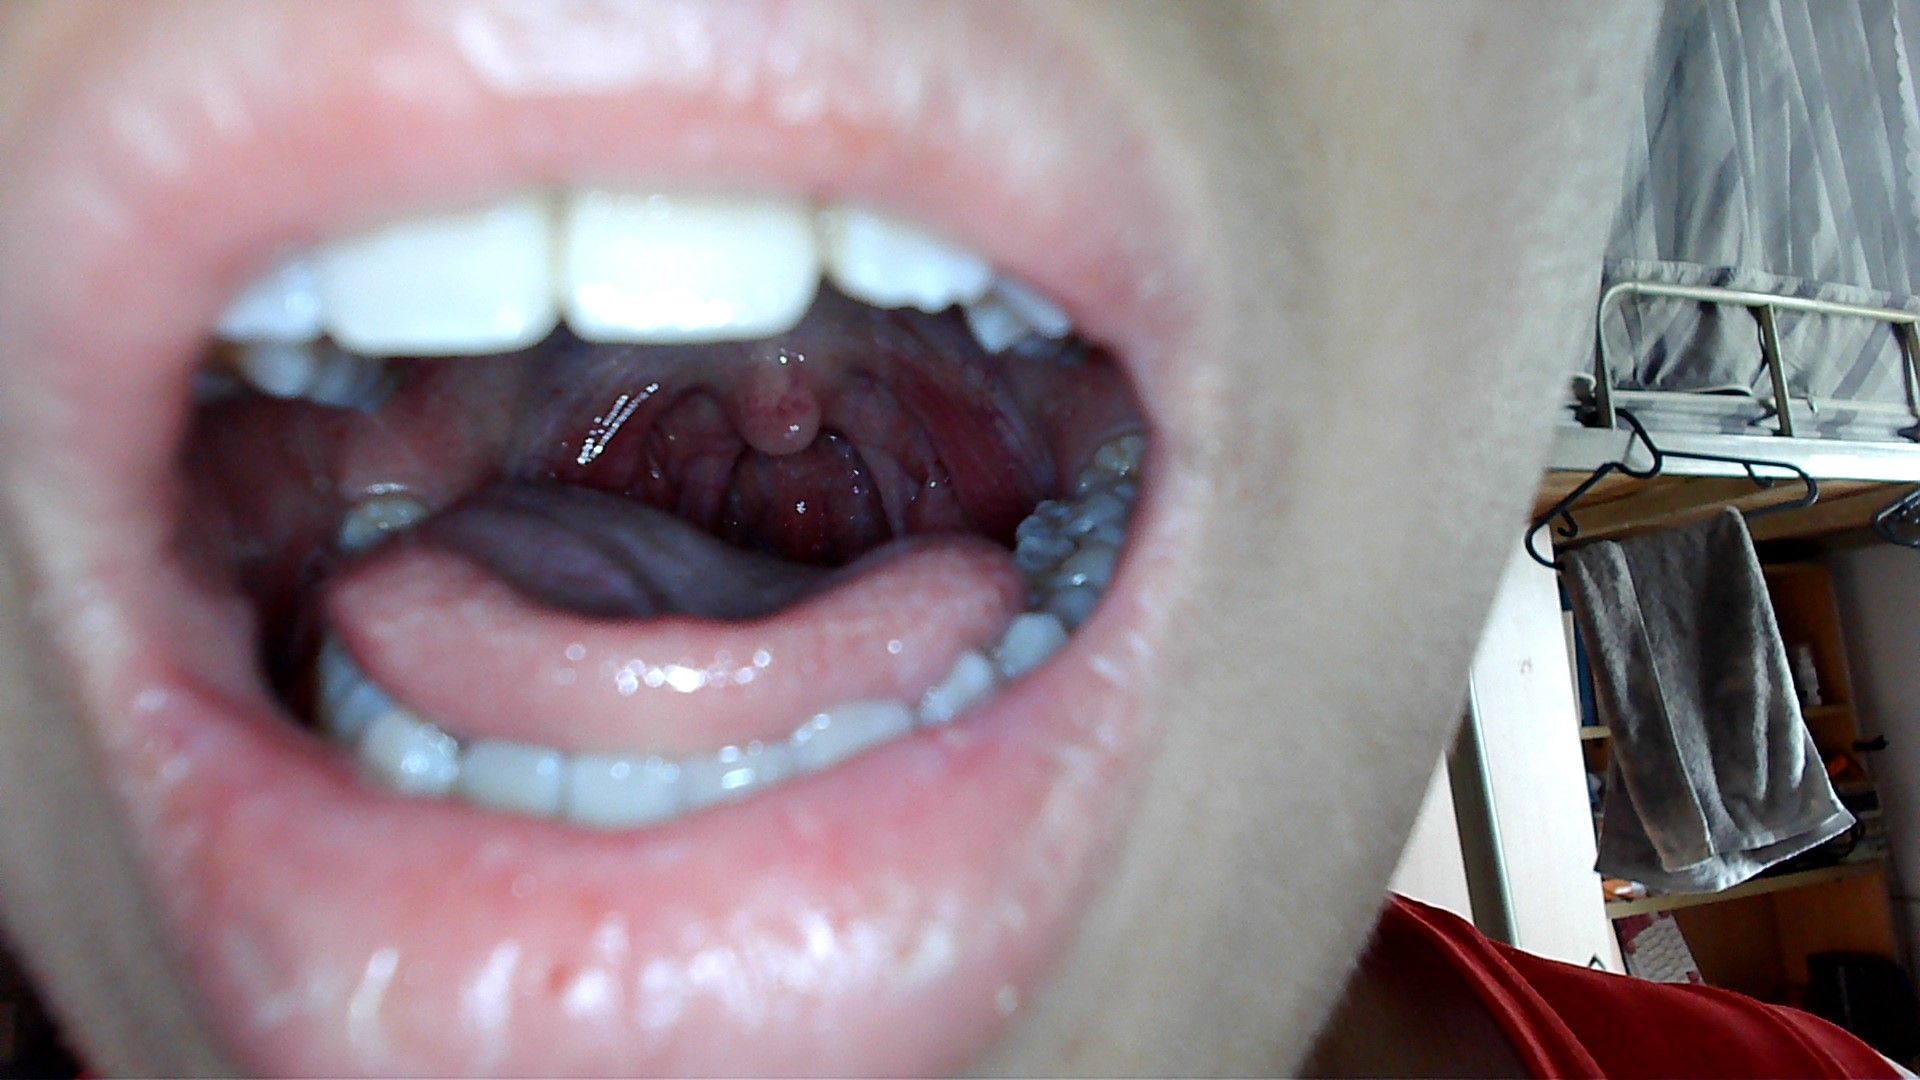throat: (874, 356, 1006, 504), (574, 372, 705, 480)
